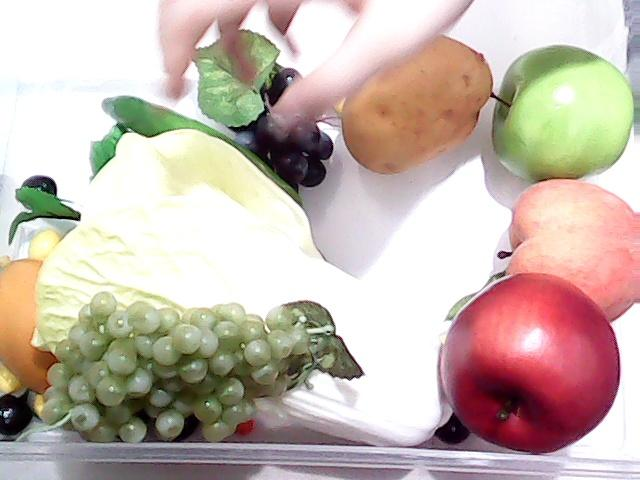apple: (443, 270, 625, 456), (486, 38, 634, 182)
carrot: (228, 413, 256, 439)
grape: (37, 292, 330, 456), (223, 60, 335, 194)
lemon: (3, 253, 49, 383)
napa cabbage: (29, 116, 478, 448)
peach: (498, 180, 640, 328)
pepper: (90, 86, 318, 210)
potato: (339, 29, 495, 177)
